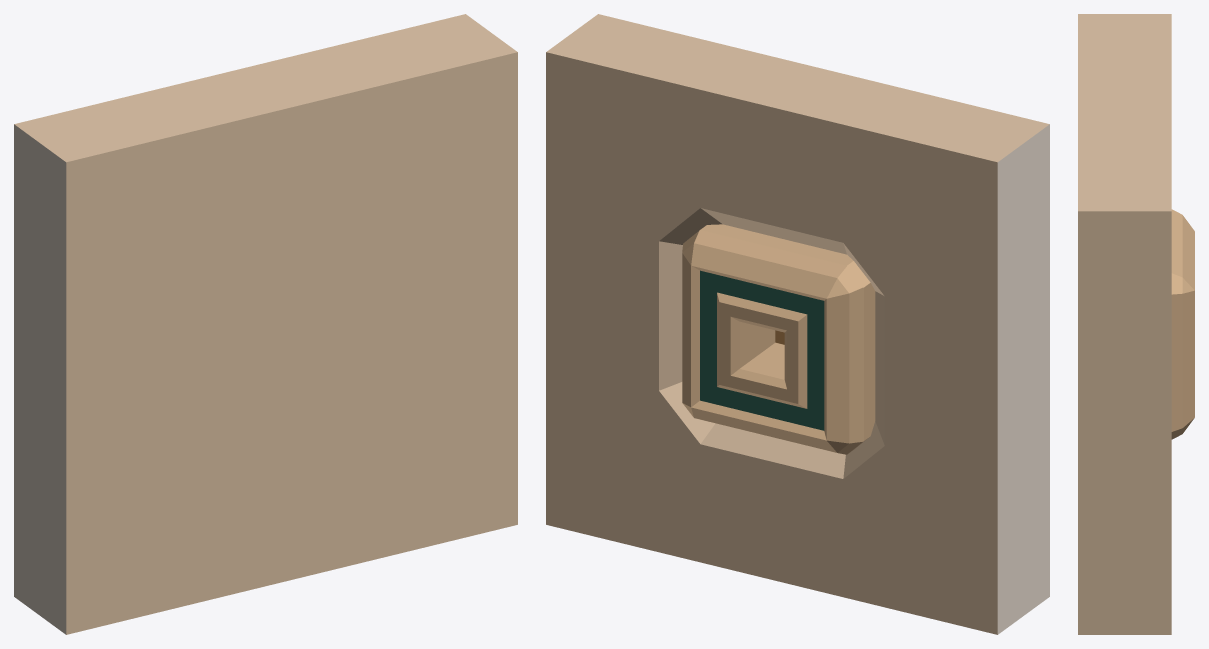
Rendered from Puzzle_Wall_Conduit_Keyhole_Unconnected.obj.
The picture shows the model from 3 angles, left to right: view 1: azimuth 30°, elevation 25°; view 2: azimuth 150°, elevation 25°; view 3: azimuth 270°, elevation 25°; orthographic projection. The views are drawn at different scales.
Parts seen in each view (by area): view 1: object1; view 2: object1, object3, object2; view 3: object1, object3.
Part boxes in pixels (bbox=[...]): object1: bbox=[14, 14, 517, 634]; object1: bbox=[546, 14, 1049, 634]; object3: bbox=[682, 224, 875, 454]; object2: bbox=[700, 270, 824, 430]; object1: bbox=[1078, 14, 1171, 634]; object3: bbox=[1171, 209, 1194, 439].
Size of the model in its own units: 1 by 1 by 0.25.
